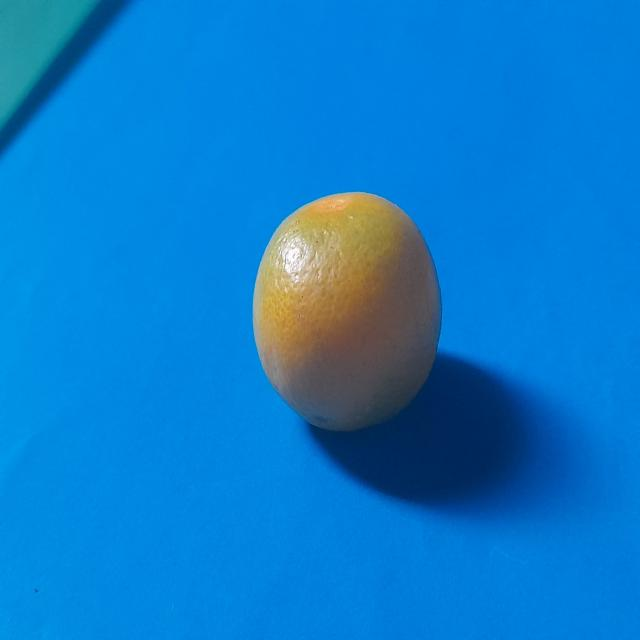greening: (252, 182, 446, 434)
